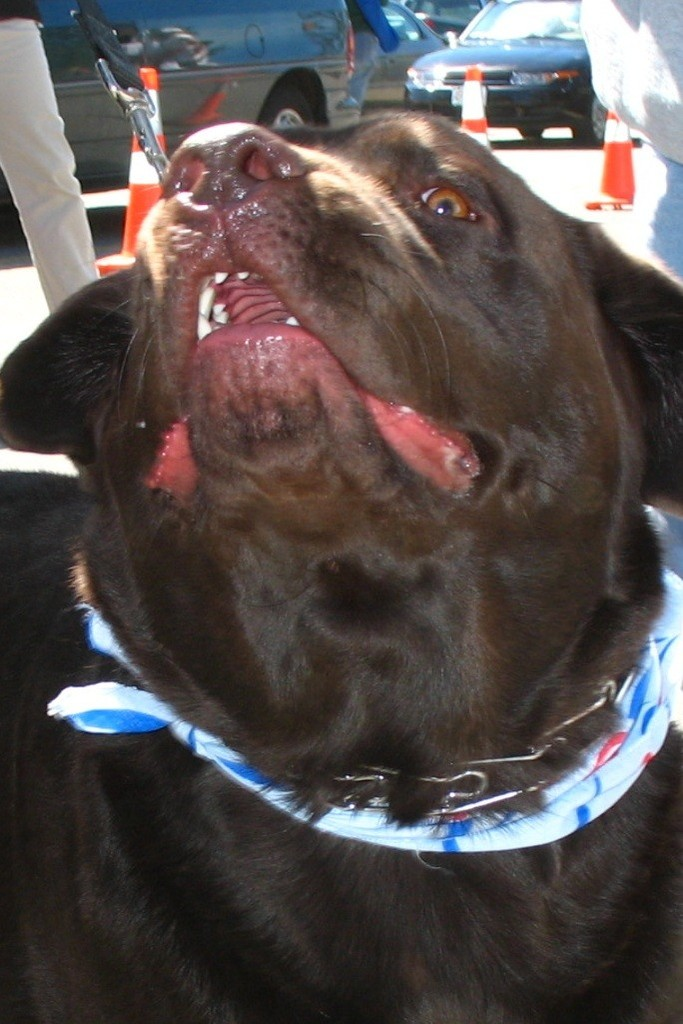Person: (0, 0, 101, 314)
